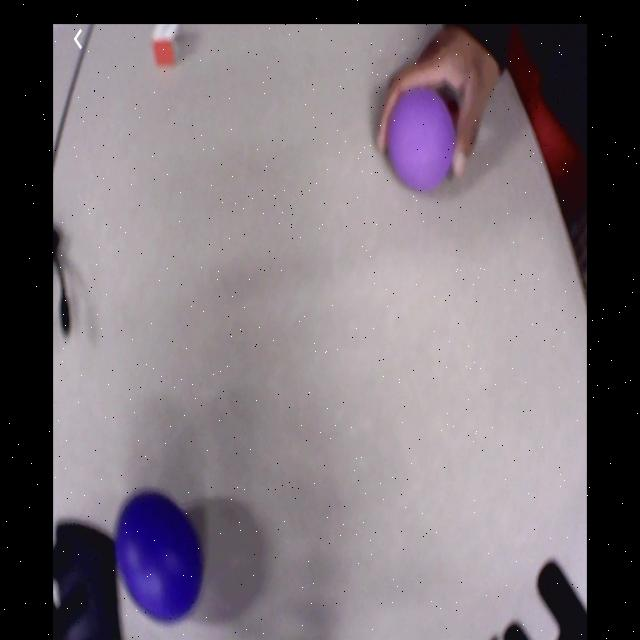ball: (119, 490, 204, 620), (387, 85, 457, 189)
